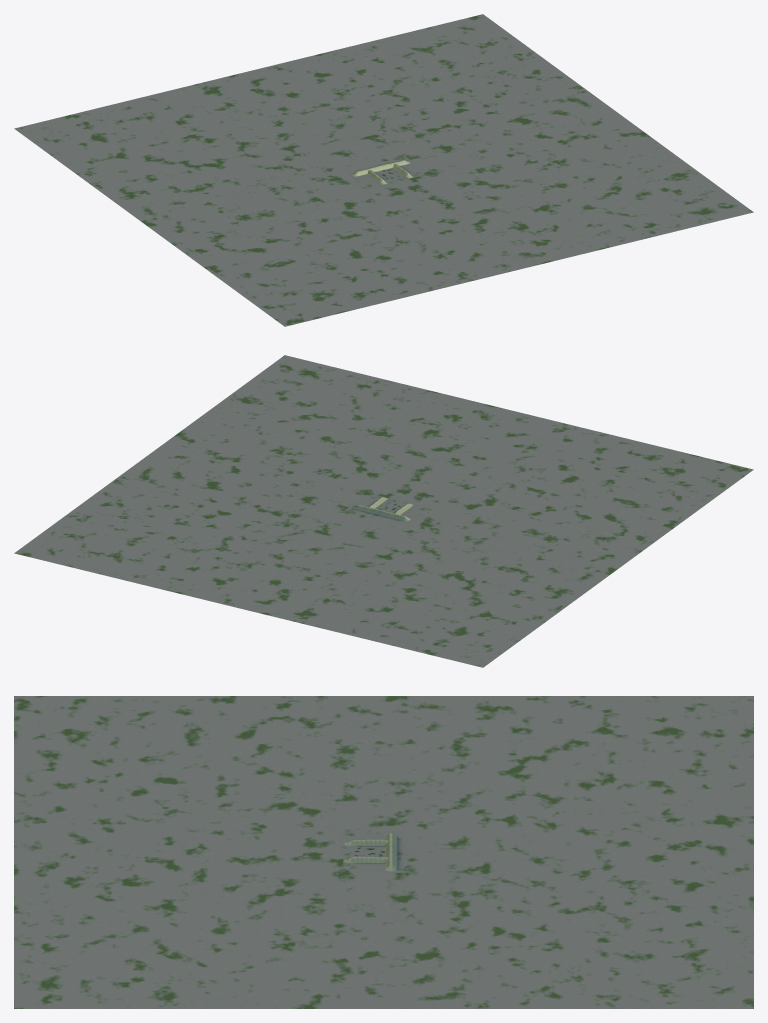
The model's file is env_outdoor_02.glb.
3 renders of one model, top to bottom at view 1: azimuth 30°, elevation 25°; view 2: azimuth 150°, elevation 25°; view 3: azimuth 270°, elevation 25°, orthographic. The views are drawn at different scales.
Parts seen in each view (by area): view 1: ground_mid, ground_near, berms; view 2: ground_mid, ground_near, berms; view 3: ground_mid, ground_near, berms.
Part boxes in pixels (box(x1,y1,x2,y2)): ground_mid: box(14, 14, 753, 326); ground_near: box(346, 158, 430, 189); berms: box(350, 160, 414, 185); ground_mid: box(14, 355, 753, 667); ground_near: box(346, 492, 430, 523); berms: box(350, 496, 414, 521); ground_mid: box(14, 696, 753, 1008); ground_near: box(340, 831, 403, 873); berms: box(343, 833, 397, 871).
Size of what is drawn, in the model's own units: 420 by 2.68 by 420.
3 materials, 3 textured.
